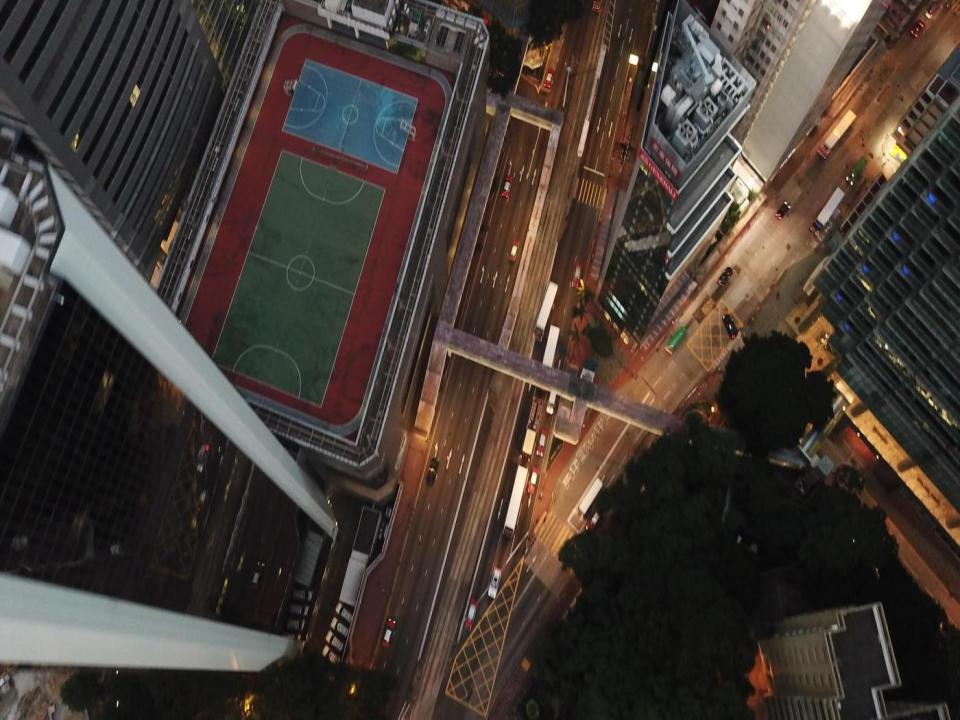bus: (816, 110, 856, 159), (502, 465, 528, 538), (809, 186, 845, 236), (533, 280, 558, 342), (519, 397, 543, 461), (540, 323, 560, 392), (577, 477, 603, 517)
car: (488, 566, 500, 600), (584, 509, 602, 531), (382, 619, 396, 646), (546, 381, 557, 415), (426, 458, 439, 485), (465, 600, 476, 630), (536, 428, 547, 456), (925, 1, 943, 17), (910, 19, 925, 38), (528, 467, 538, 494), (501, 176, 513, 198), (572, 262, 581, 289), (509, 240, 520, 262), (544, 68, 554, 88)
truck: (664, 326, 686, 355), (846, 156, 867, 185)
van: (721, 314, 738, 339), (774, 202, 790, 219), (718, 267, 732, 286)
